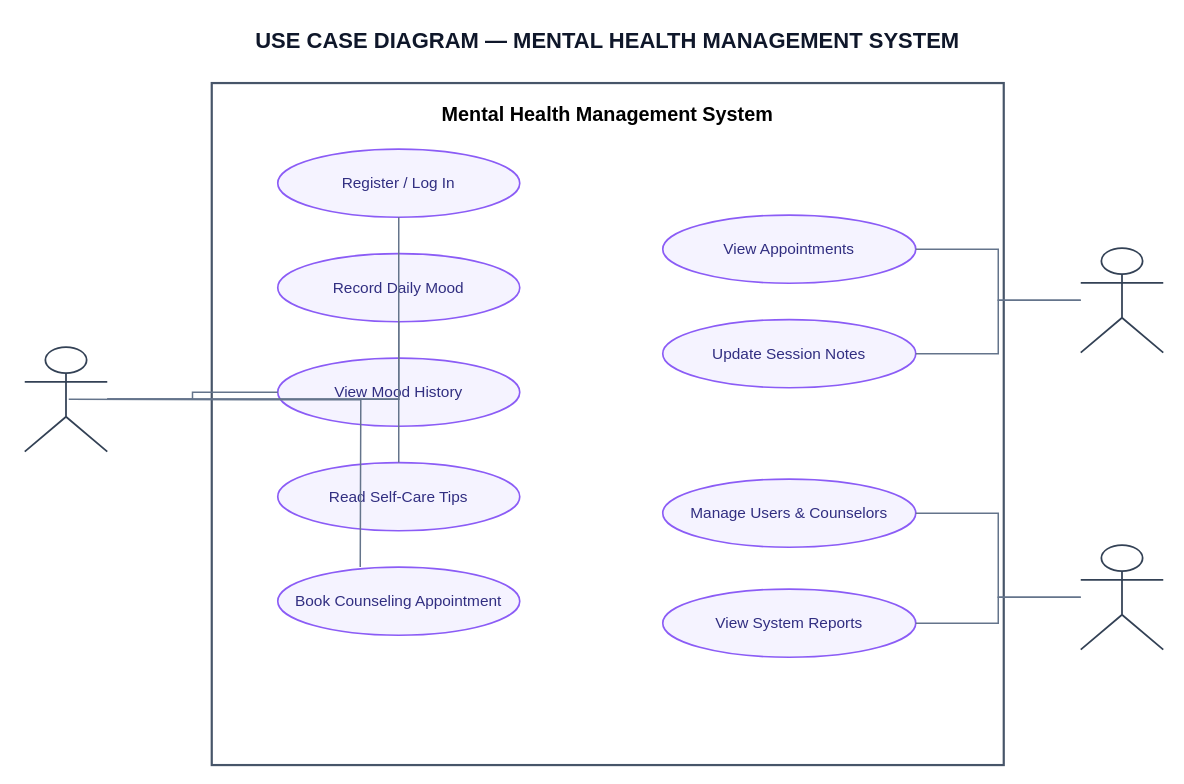
The diagram is 1184 pixels wide and 784 high, and some of its shapes have lost their labels. Each missing label, with the box of its shape:
Admin: (1079, 544, 1164, 650)
Counselor: (1079, 247, 1164, 353)
User / Patient: (23, 346, 108, 452)
